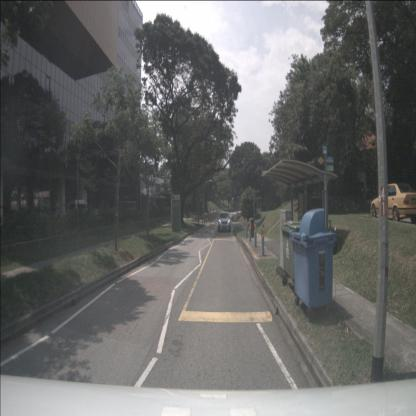vehicle-bicycle: (327, 220, 339, 255)
vehicle-car: (370, 183, 416, 224), (68, 199, 90, 219), (218, 212, 231, 232)
